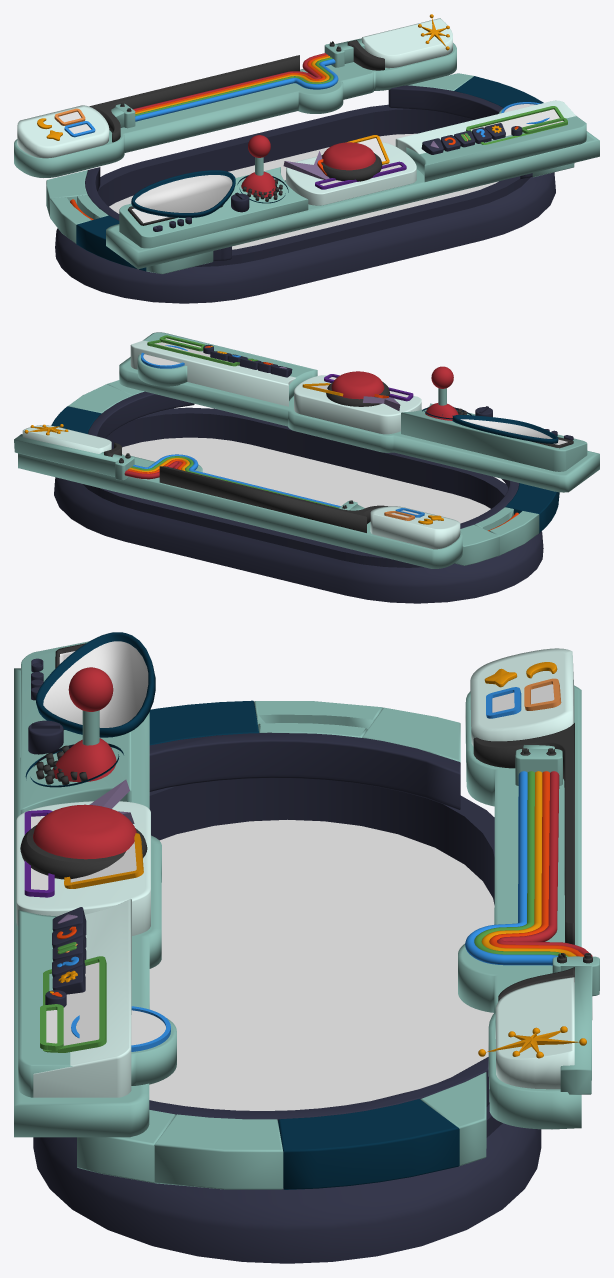
Rendered from MHUD.glb.
3 views of the same model, one above another, from view 1: azimuth 30°, elevation 25°; view 2: azimuth 150°, elevation 25°; view 3: azimuth 270°, elevation 25° (orthographic). The views are drawn at different scales.
Visible parts, largest first — view 1: MainFrame, LPortal, LeftFrameBottom2, RPortal, RightFrameBottom2, BoomerangScreen, Wires, CenterConsole, RightFrameBottom, BigRedButton, RightScreen, LeftFrameBottom (+8 smaller); view 2: MainFrame, LPortal, LeftFrameBottom2, RPortal, RightFrameBottom, CenterConsole, RightFrameBottom2, BoomerangScreen, Wires, BigRedButton, DialScreens, RightScreen (+3 smaller); view 3: MainFrame, RPortal, LPortal, Wires, RightFrameBottom, BoomerangScreen, RightFrameBottom2, LeftFrameBottom2, CenterConsole, BigRedButton, RightScreen, DialScreens (+9 smaller).
Boxes of the visible parts, left/top/right/bottom form: MainFrame: left=14, top=18, right=599, bottom=303; LPortal: left=46, top=167, right=231, bottom=274; LeftFrameBottom2: left=119, top=167, right=308, bottom=248; RPortal: left=388, top=73, right=574, bottom=179; RightFrameBottom2: left=406, top=108, right=586, bottom=181; BoomerangScreen: left=131, top=170, right=235, bottom=217; Wires: left=133, top=53, right=338, bottom=121; CenterConsole: left=286, top=142, right=416, bottom=205; RightFrameBottom: left=395, top=100, right=575, bottom=154; BigRedButton: left=322, top=142, right=375, bottom=170; RightScreen: left=466, top=106, right=567, bottom=144; LeftFrameBottom: left=119, top=171, right=307, bottom=237; MainFrame: left=14, top=357, right=599, bottom=603; LPortal: left=454, top=478, right=559, bottom=565; LeftFrameBottom2: left=401, top=403, right=587, bottom=471; RPortal: left=51, top=380, right=194, bottom=438; RightFrameBottom: left=130, top=340, right=295, bottom=406; CenterConsole: left=294, top=375, right=421, bottom=434; RightFrameBottom2: left=137, top=332, right=317, bottom=400; BoomerangScreen: left=452, top=415, right=558, bottom=443; Wires: left=124, top=454, right=340, bottom=508; BigRedButton: left=331, top=371, right=384, bottom=399; DialScreens: left=141, top=335, right=204, bottom=368; RightScreen: left=147, top=340, right=239, bottom=366; MainFrame: left=14, top=648, right=599, bottom=1263; RPortal: left=77, top=1057, right=489, bottom=1189; LPortal: left=149, top=700, right=460, bottom=809; Wires: left=465, top=771, right=592, bottom=965; RightFrameBottom: left=33, top=899, right=131, bottom=1097; BoomerangScreen: left=36, top=632, right=155, bottom=737; RightFrameBottom2: left=18, top=909, right=176, bottom=1097; LeftFrameBottom2: left=20, top=641, right=131, bottom=814; CenterConsole: left=16, top=801, right=150, bottom=935; BigRedButton: left=33, top=804, right=136, bottom=859; RightScreen: left=43, top=956, right=106, bottom=1052; DialScreens: left=40, top=1004, right=170, bottom=1051.
Bounding box in the file's own units: 4 × 1.16 × 2.19.
